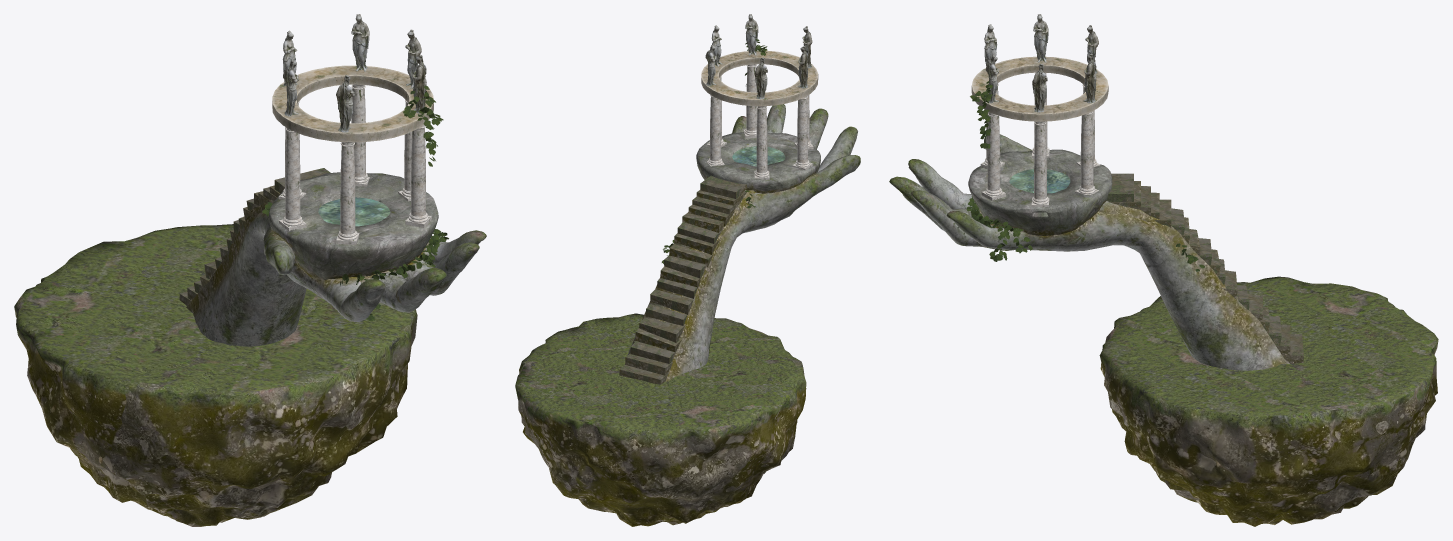
Rendered from temple.glb.
3 renders of one model, left to right at view 1: azimuth 30°, elevation 25°; view 2: azimuth 150°, elevation 25°; view 3: azimuth 270°, elevation 25°, orthographic. The views are drawn at different scales.
Parts seen in each view (by area): view 1: ground, hand, rock_base, column, top_ring, DefaultMaterial, ivy, steps, Temple_sketchfab_water; view 2: ground, hand, steps, rock_base, column, top_ring, DefaultMaterial, Temple_sketchfab_water; view 3: ground, hand, rock_base, steps, top_ring, column, DefaultMaterial, ivy, Temple_sketchfab_water.
Boxes of the visible parts, x1=… form: ground: x1=14, y1=224, x2=417, y2=526; hand: x1=186, y1=199, x2=486, y2=346; rock_base: x1=268, y1=172, x2=438, y2=280; column: x1=278, y1=84, x2=431, y2=245; top_ring: x1=272, y1=65, x2=433, y2=142; DefaultMaterial: x1=282, y1=14, x2=426, y2=132; ivy: x1=262, y1=85, x2=448, y2=321; steps: x1=179, y1=168, x2=330, y2=305; Temple_sketchfab_water: x1=318, y1=197, x2=390, y2=226; ground: x1=515, y1=313, x2=806, y2=526; hand: x1=625, y1=104, x2=860, y2=381; steps: x1=619, y1=175, x2=748, y2=384; rock_base: x1=696, y1=132, x2=820, y2=193; column: x1=706, y1=64, x2=813, y2=179; top_ring: x1=701, y1=50, x2=818, y2=106; DefaultMaterial: x1=705, y1=14, x2=812, y2=99; Temple_sketchfab_water: x1=732, y1=146, x2=785, y2=166; ground: x1=1099, y1=276, x2=1438, y2=526; hand: x1=889, y1=134, x2=1289, y2=370; rock_base: x1=968, y1=149, x2=1112, y2=235; steps: x1=1106, y1=173, x2=1303, y2=363; top_ring: x1=971, y1=56, x2=1108, y2=121; column: x1=980, y1=72, x2=1100, y2=206; DefaultMaterial: x1=984, y1=14, x2=1098, y2=112; ivy: x1=966, y1=81, x2=1204, y2=271; Temple_sketchfab_water: x1=1009, y1=169, x2=1070, y2=193.
Bounding box in the file's own units: 3721 × 5809 × 6109.
9 materials, 9 textured.
